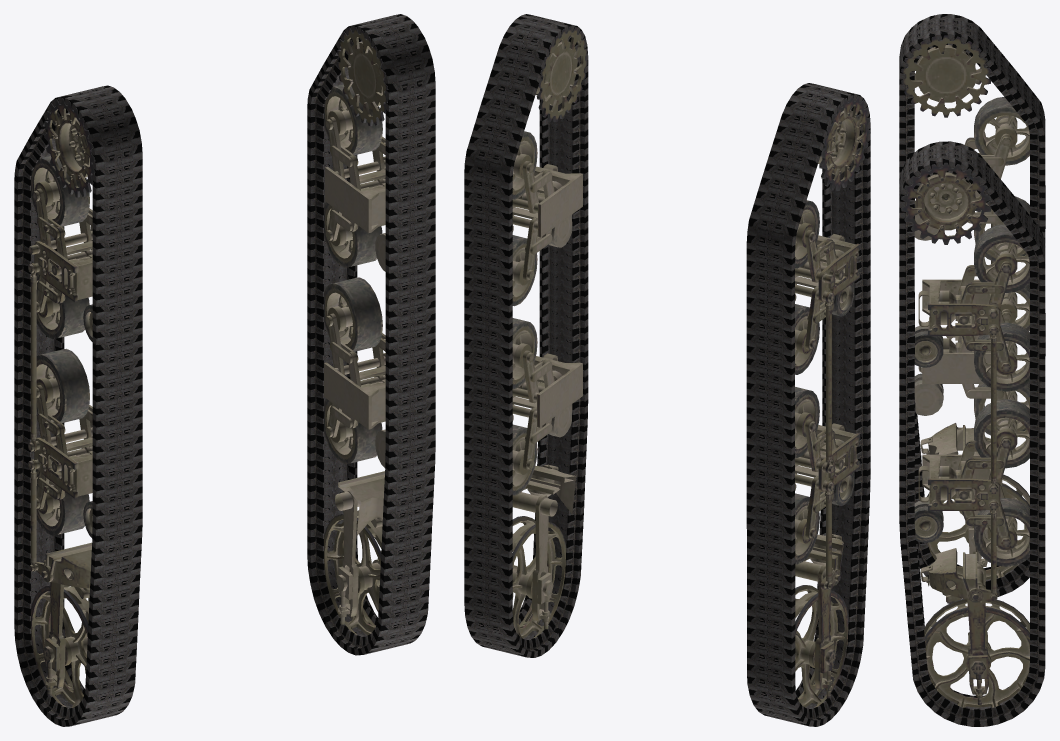
The model's file is Chassis.glb.
The picture shows the model from 3 angles, left to right: view 1: azimuth 30°, elevation 25°; view 2: azimuth 150°, elevation 25°; view 3: azimuth 270°, elevation 25°; orthographic projection. The views are drawn at different scales.
Parts seen in each view (by area): view 1: set_1_group_0, set_0_group_0, set_2_group_0, set_3_group_0; view 2: set_1_group_0, set_0_group_0, set_3_group_0, set_2_group_0; view 3: set_3_group_0, set_1_group_0, set_2_group_0, set_0_group_0.
Boxes of the visible parts, x1,y1,x2,y2 form: set_1_group_0: (307, 14, 435, 655); set_0_group_0: (14, 85, 142, 726); set_2_group_0: (28, 98, 95, 707); set_3_group_0: (324, 27, 388, 634); set_1_group_0: (464, 14, 588, 657); set_0_group_0: (746, 83, 870, 726); set_3_group_0: (512, 26, 587, 638); set_2_group_0: (795, 95, 870, 707); set_3_group_0: (901, 162, 1029, 707); set_1_group_0: (899, 141, 1045, 726); set_2_group_0: (901, 35, 1029, 579); set_0_group_0: (899, 14, 1045, 596).
Size of the model in its own units: 2.23 by 3.69 by 0.8641.
4 materials, 4 textured.
